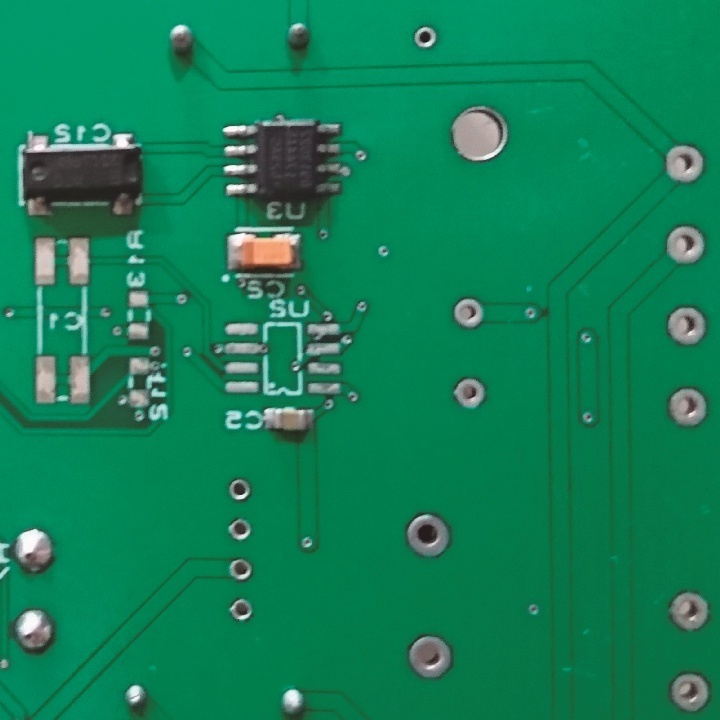F: (406, 631, 453, 682), (407, 509, 453, 559), (664, 302, 709, 351), (667, 590, 712, 634), (667, 386, 709, 432), (668, 670, 710, 715), (664, 223, 705, 267), (664, 143, 707, 184), (449, 376, 486, 409), (452, 297, 481, 330), (227, 475, 253, 505), (411, 23, 438, 51), (226, 515, 252, 543), (227, 558, 256, 583), (226, 598, 255, 623)
